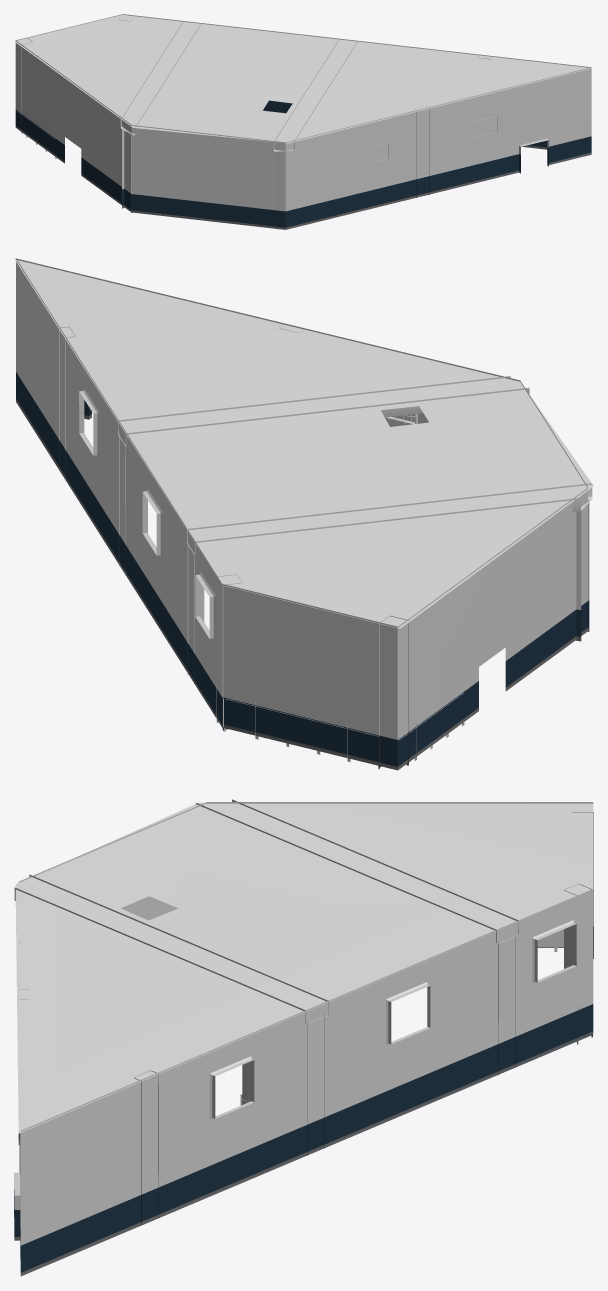
File: SM_H_Building_Tide_Laundryroom_01_ATLAS.fbx
The picture shows the model from 3 angles, top to bottom: view 1: azimuth 30°, elevation 25°; view 2: azimuth 150°, elevation 25°; view 3: azimuth 270°, elevation 25°; orthographic projection. The views are drawn at different scales.
Visible parts, largest first — view 1: SM_H_Building_Tide_Laundryroom_01_ATLAS; view 2: SM_H_Building_Tide_Laundryroom_01_ATLAS; view 3: SM_H_Building_Tide_Laundryroom_01_ATLAS.
Boxes of the visible parts, x1=… form: SM_H_Building_Tide_Laundryroom_01_ATLAS: x1=14, y1=14, x2=592, y2=229; SM_H_Building_Tide_Laundryroom_01_ATLAS: x1=14, y1=258, x2=593, y2=770; SM_H_Building_Tide_Laundryroom_01_ATLAS: x1=14, y1=799, x2=593, y2=1276.
Bounding box in the file's own units: 4156 × 3061 × 871.
